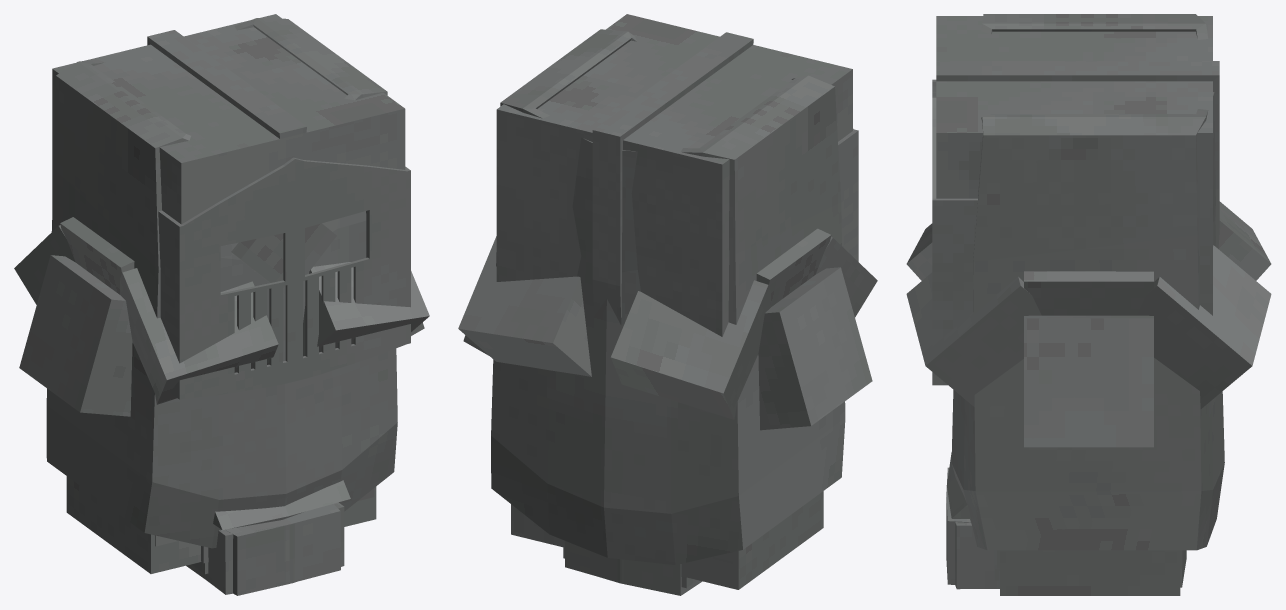
The model's file is ironArmor.glb.
3 renders of one model, left to right at view 1: azimuth 30°, elevation 25°; view 2: azimuth 150°, elevation 25°; view 3: azimuth 270°, elevation 25°, orthographic. The views are drawn at different scales.
Parts seen in each view (by area): view 1: iron chestplate, iron helmet, iron chestplate R 1, iron boot R, iron leggings, iron chestplate L 1, iron boot L, iron greave L, iron greave R; view 2: iron chestplate, iron helmet, iron chestplate R 1, iron chestplate L 1, iron leggings, iron boot L, iron boot R; view 3: iron chestplate, iron chestplate L 1, iron helmet, iron leggings, iron chestplate R 1, iron boot L, iron boot R, iron greave R.
Boxes of the visible parts, x1=… form: iron chestplate: x1=46, y1=18, x2=397, y2=548; iron helmet: x1=52, y1=14, x2=410, y2=399; iron chestplate R 1: x1=14, y1=217, x2=278, y2=546; iron boot R: x1=186, y1=504, x2=340, y2=594; iron leggings: x1=66, y1=476, x2=376, y2=573; iron chestplate L 1: x1=303, y1=262, x2=429, y2=500; iron boot L: x1=225, y1=502, x2=344, y2=595; iron greave L: x1=213, y1=506, x2=288, y2=529; iron greave R: x1=285, y1=480, x2=350, y2=515; iron chestplate: x1=491, y1=29, x2=845, y2=565; iron helmet: x1=496, y1=14, x2=858, y2=336; iron chestplate R 1: x1=610, y1=228, x2=877, y2=561; iron chestplate L 1: x1=458, y1=236, x2=591, y2=514; iron leggings: x1=511, y1=491, x2=823, y2=589; iron boot L: x1=607, y1=559, x2=702, y2=595; iron boot R: x1=565, y1=541, x2=624, y2=583; iron chestplate: x1=951, y1=14, x2=1224, y2=550; iron chestplate L 1: x1=906, y1=245, x2=1271, y2=568; iron helmet: x1=932, y1=16, x2=1219, y2=385; iron leggings: x1=1000, y1=550, x2=1180, y2=595; iron chestplate R 1: x1=906, y1=201, x2=1271, y2=280; iron boot L: x1=946, y1=467, x2=1186, y2=589; iron boot R: x1=946, y1=490, x2=1186, y2=587; iron greave R: x1=947, y1=478, x2=970, y2=518.
Size of the model in its own units: 0.4978 by 0.6316 by 0.4269.
Materials: 1 (1 with a texture image).
